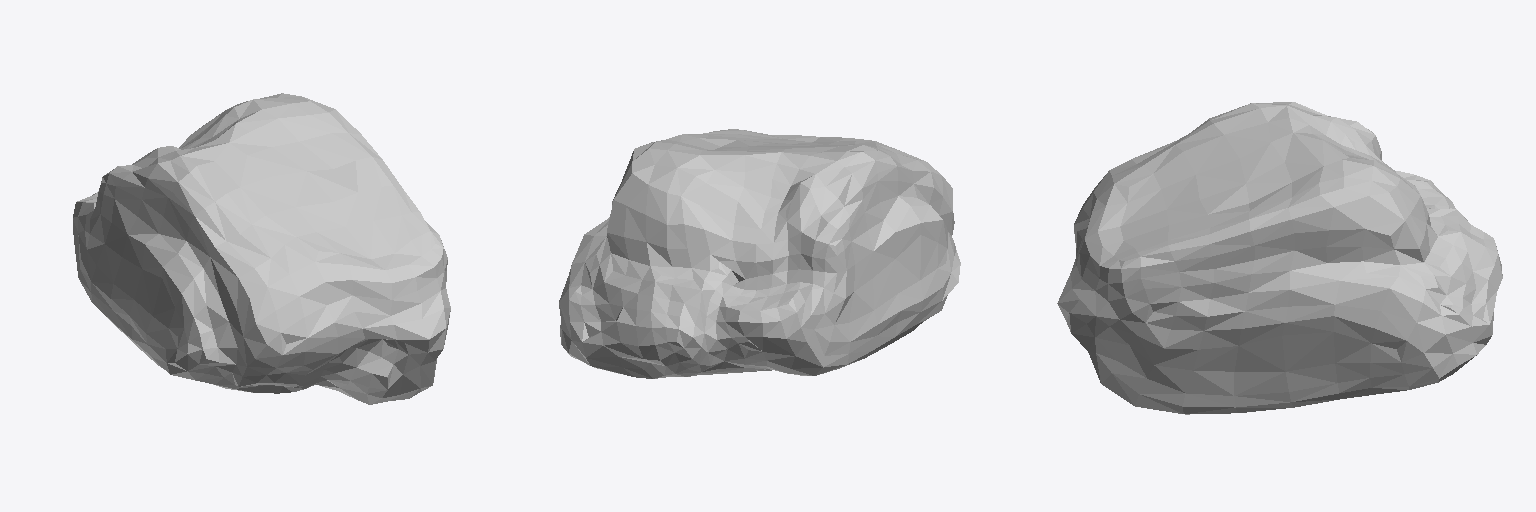
Rendered from Rock_1.obj.
3 renders of one model, left to right at view 1: azimuth 30°, elevation 25°; view 2: azimuth 150°, elevation 25°; view 3: azimuth 270°, elevation 25°, orthographic.
Size of the model in its own units: 0.7044 by 0.5756 by 1.